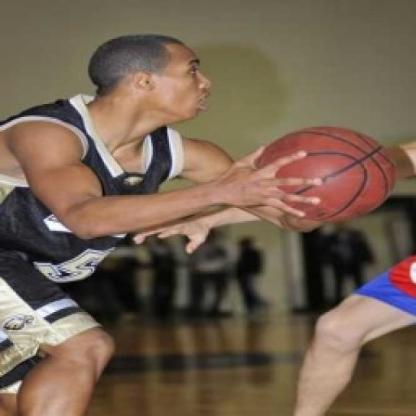basketball: (255, 126, 396, 222)
